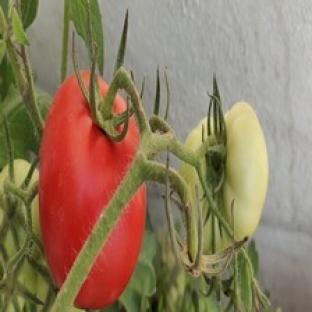Tomato: (39, 76, 139, 286), (218, 102, 268, 239), (0, 165, 26, 260), (31, 197, 40, 233)
